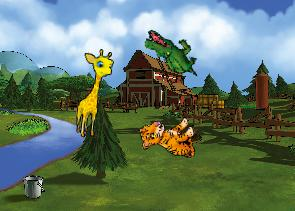crocodile: (138, 28, 205, 78)
giraffe: (74, 47, 115, 140)
tiger: (137, 111, 200, 168)
